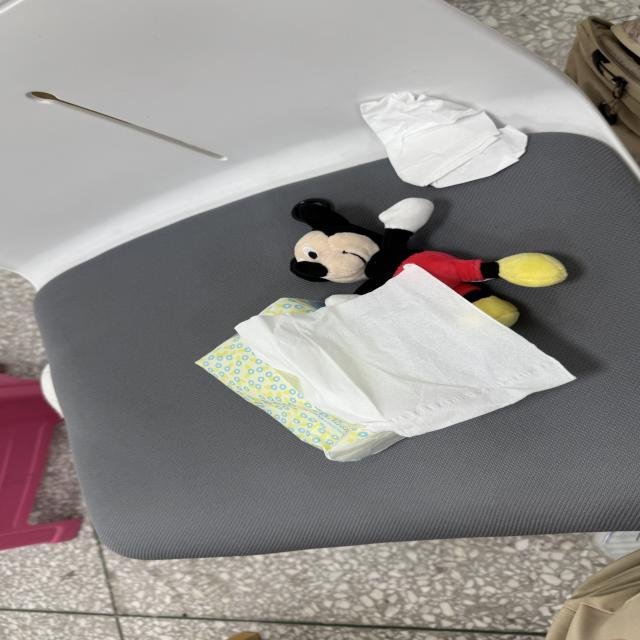mickey: (291, 198, 567, 326)
tissue: (200, 265, 574, 459), (361, 92, 526, 186), (432, 126, 527, 187)
